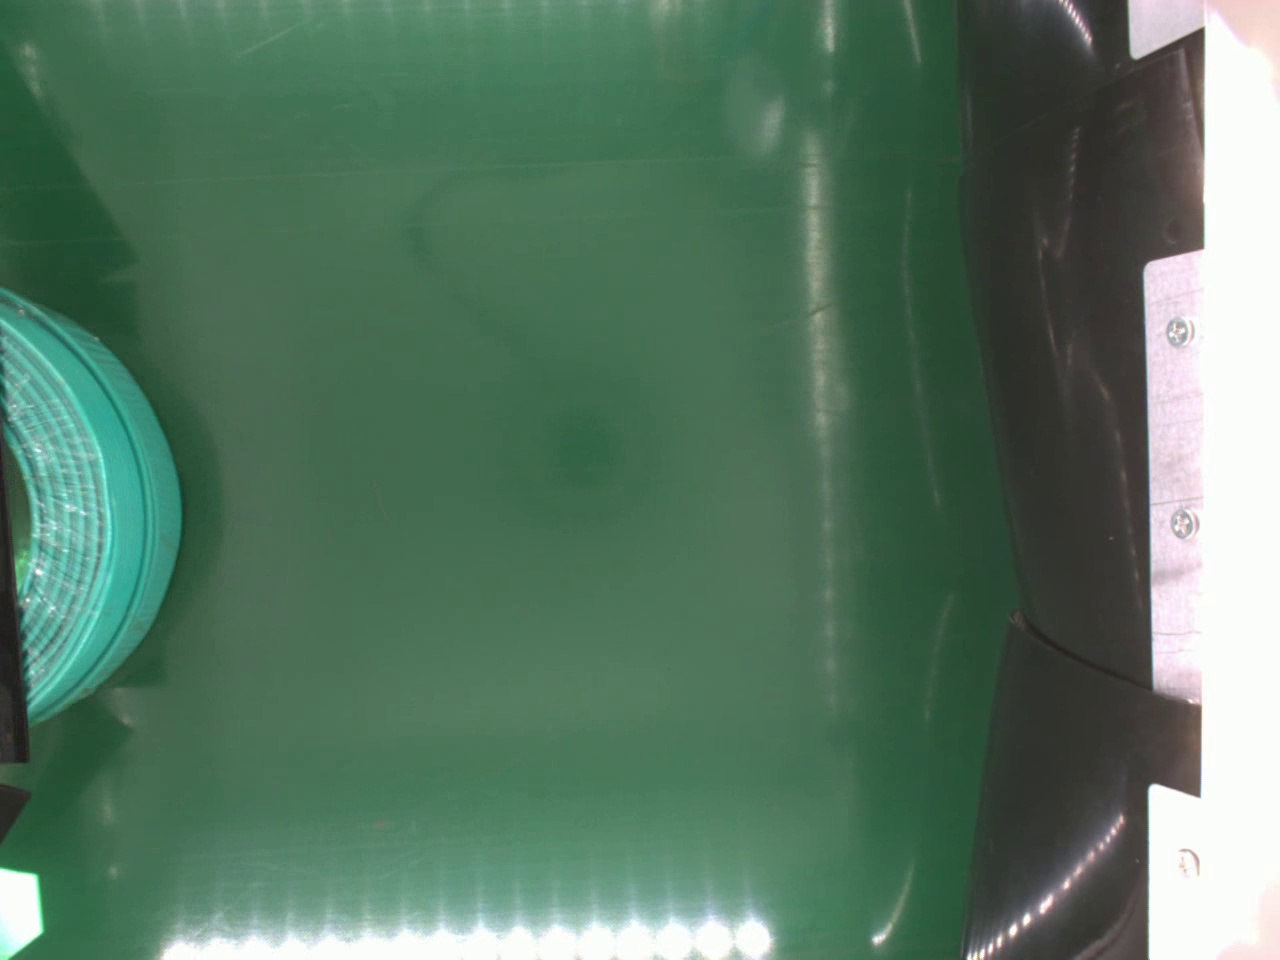green: (0, 283, 182, 729)
